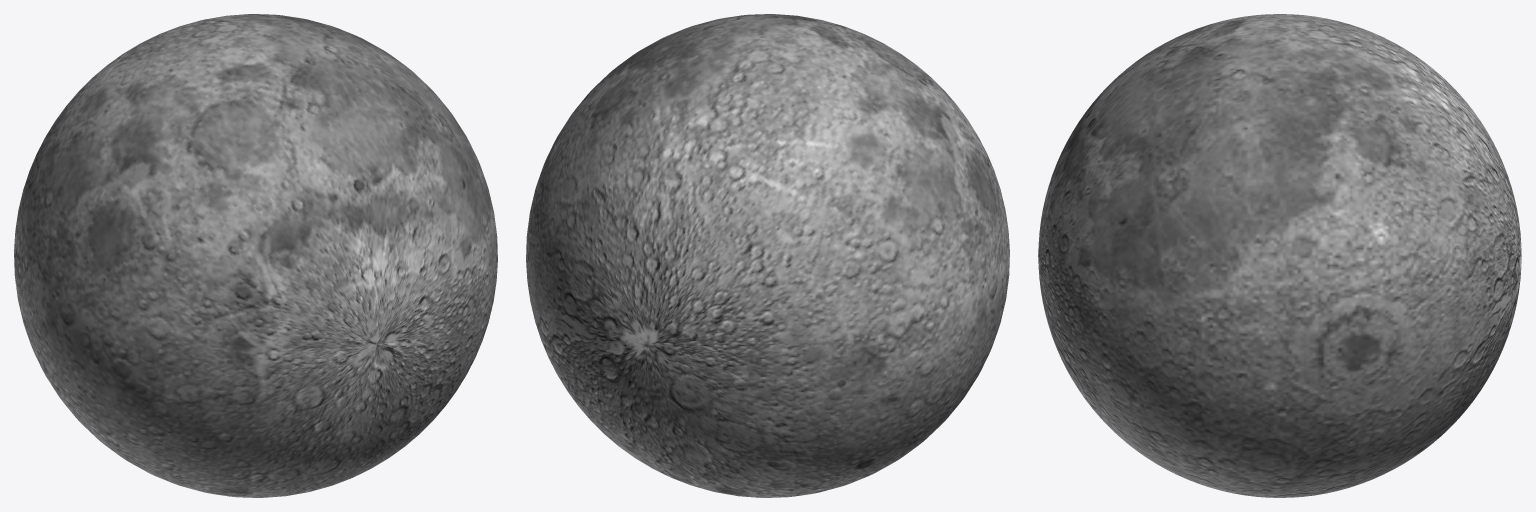
3 renders of one model, left to right at view 1: azimuth 30°, elevation 25°; view 2: azimuth 150°, elevation 25°; view 3: azimuth 270°, elevation 25°, orthographic.
Visible parts, largest first — view 1: Moon; view 2: Moon; view 3: Moon.
Boxes of the visible parts, x1,y1,x2,y2 form: Moon: (14, 14, 497, 497); Moon: (526, 14, 1009, 497); Moon: (1038, 14, 1521, 497).
Size of the model in its own units: 0.3476 by 0.3476 by 0.3472.
1 material, 1 textured.
